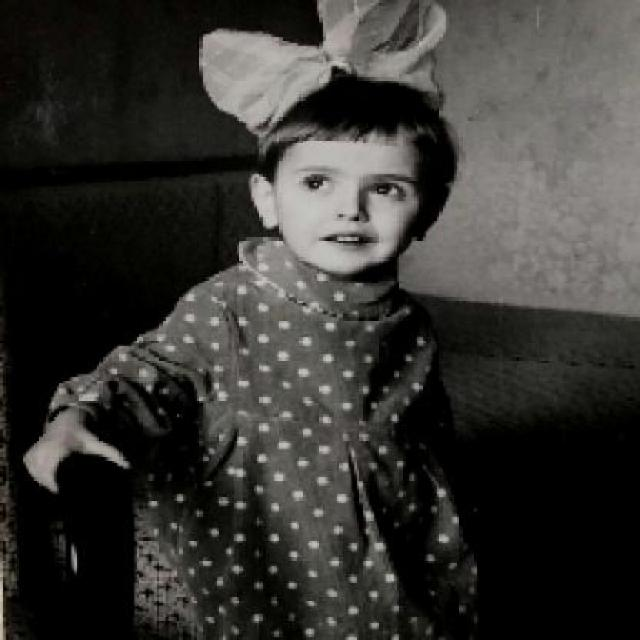child: (17, 0, 492, 637)
